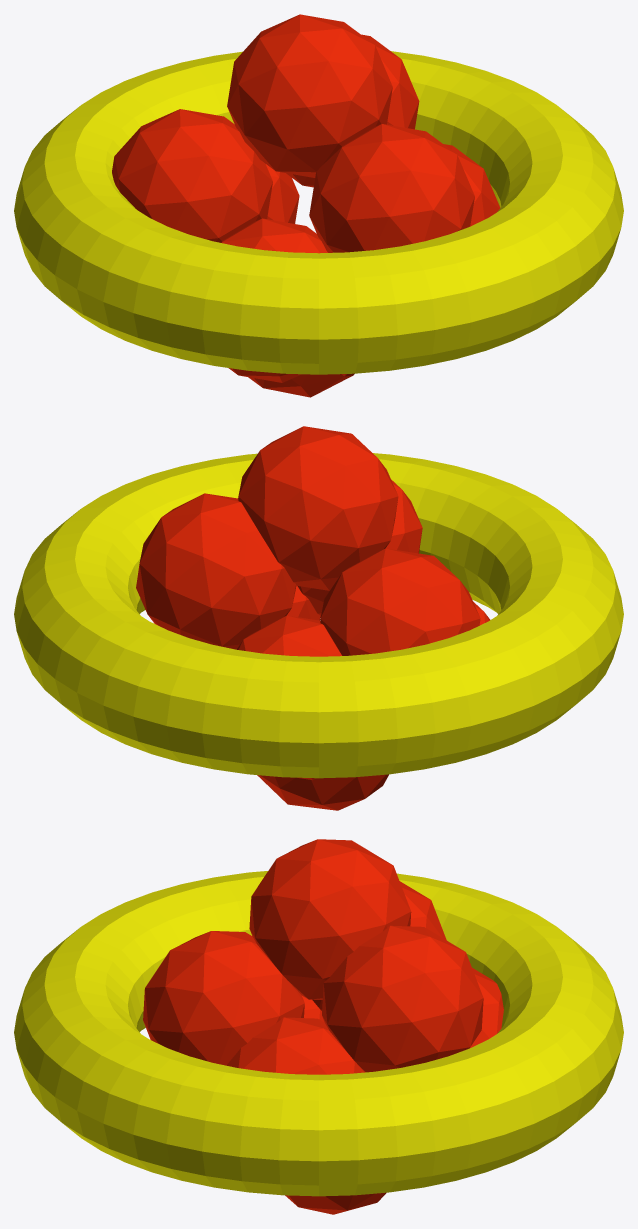
File: biger omulet.fbx
3 views of the same model, one above another, from view 1: azimuth 30°, elevation 25°; view 2: azimuth 150°, elevation 25°; view 3: azimuth 270°, elevation 25° (orthographic).
Parts seen in each view (by area): view 1: Torus.009; view 2: Torus.009; view 3: Torus.009.
Part boxes in pixels (<box>): Torus.009: <box>14,14,623,397</box>; Torus.009: <box>14,426,623,810</box>; Torus.009: <box>14,839,623,1214</box>.
Size of the model in its own units: 730 by 480 by 730.
